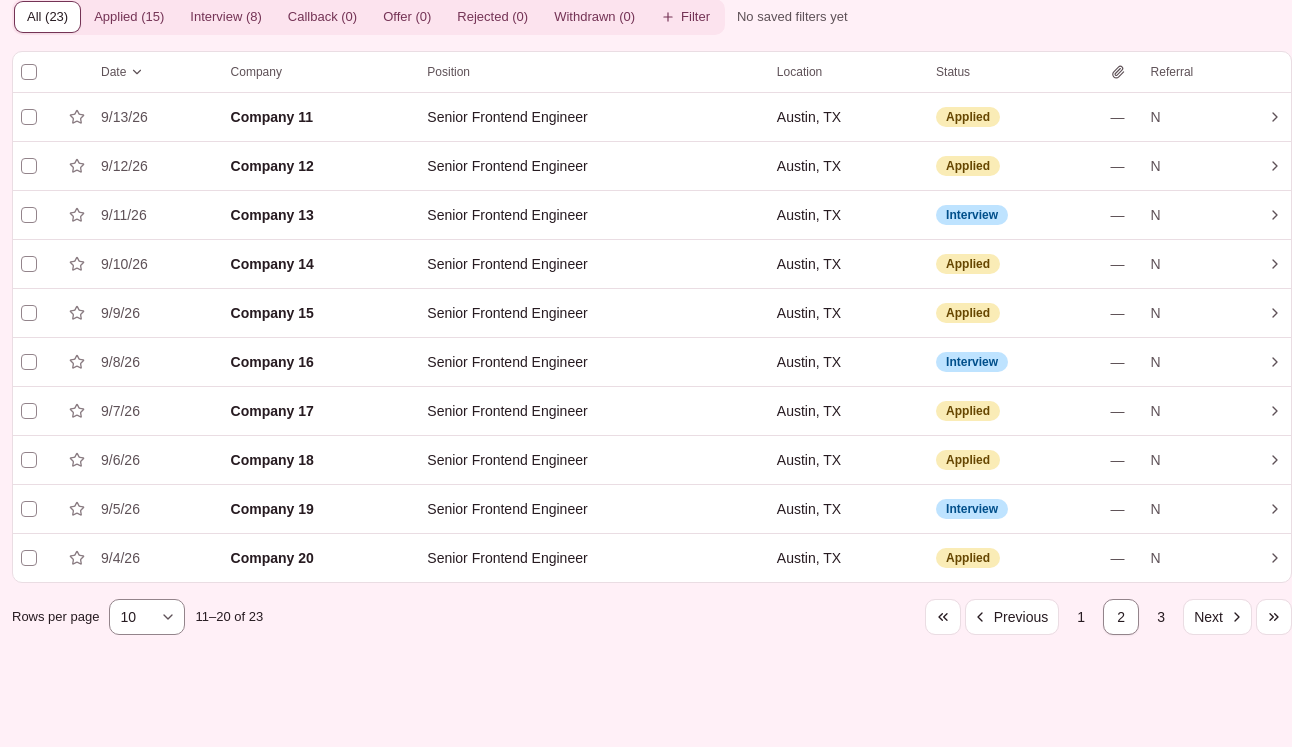
Test: pagination (§4.2) › changes rows per page, back to page 1
Click the dropdown named "Rows per page": click(148, 616) [110,598,186,634]
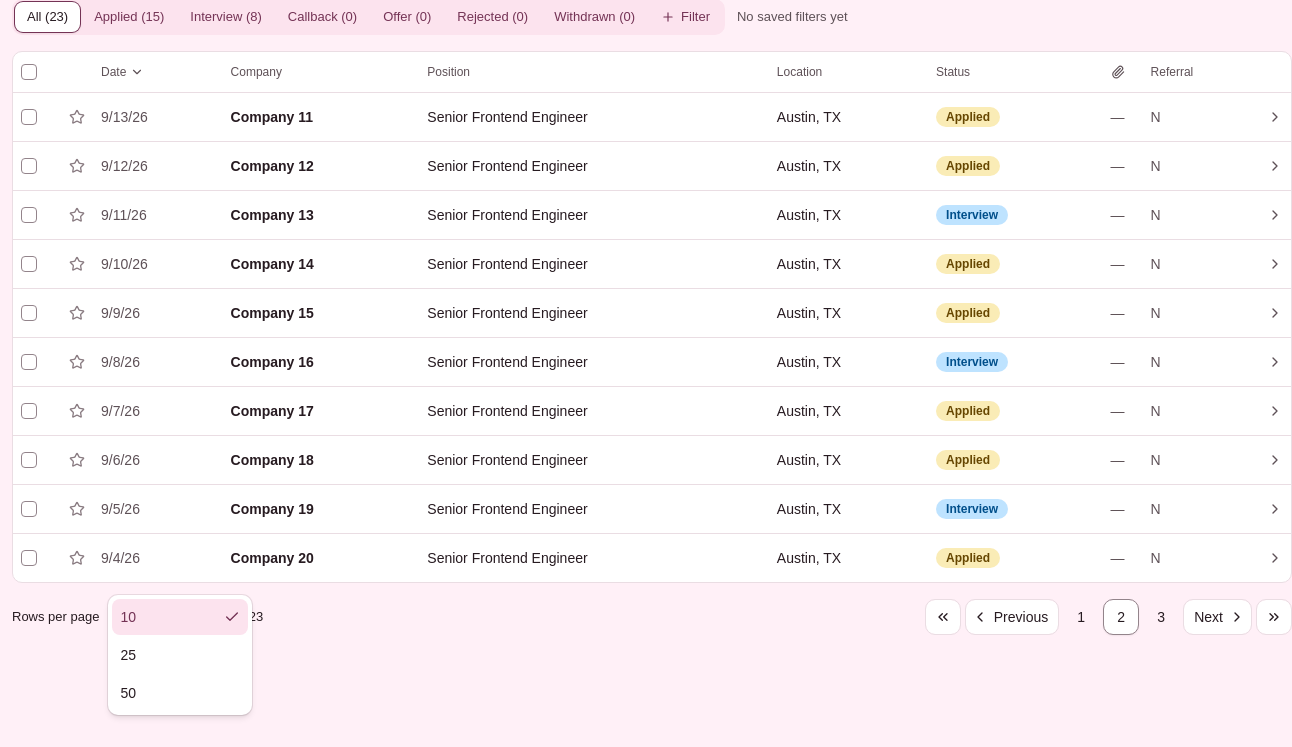
Click the option "25": click(128, 654) [120,646,136,662]
(page scrolled)
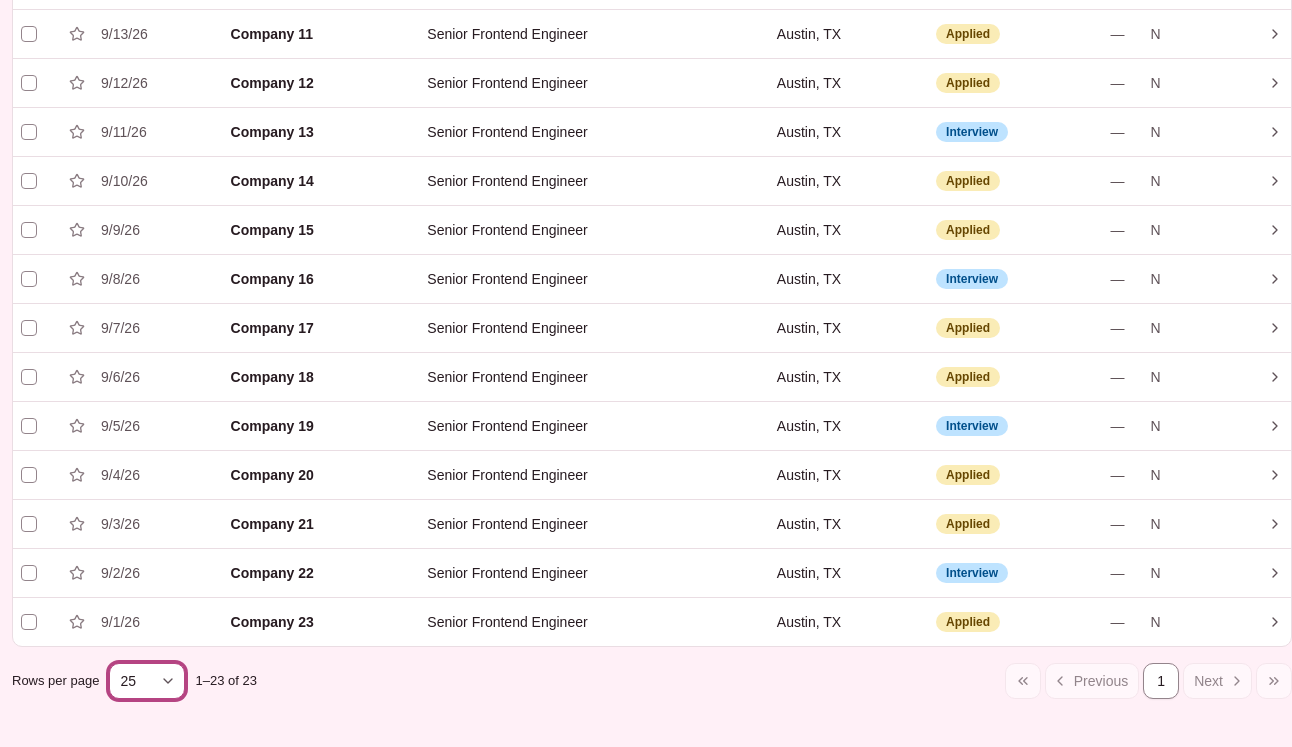
Expected: the text "1–23 of 23" is shown, [196,673,257,688]
